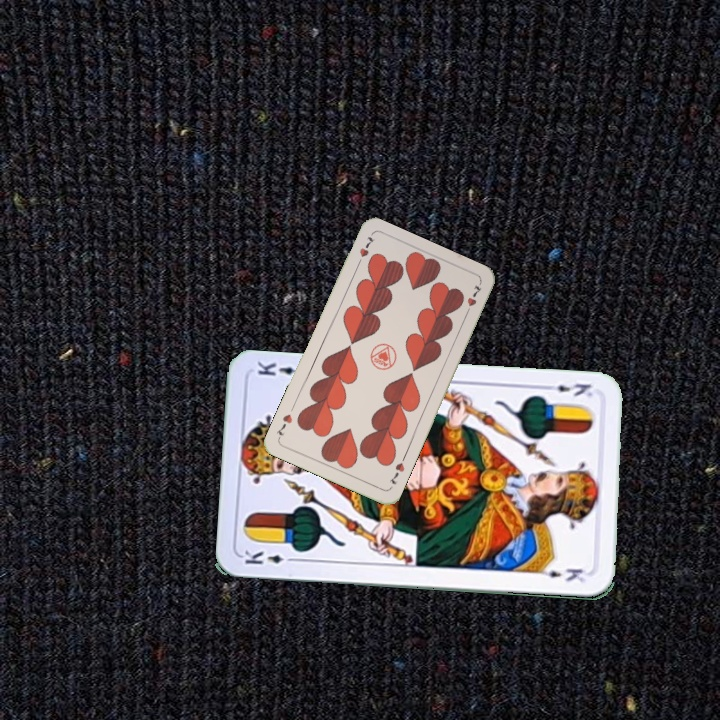EK: (240, 546, 299, 567), (541, 379, 595, 399)
H7: (352, 233, 377, 269), (385, 452, 408, 487)
